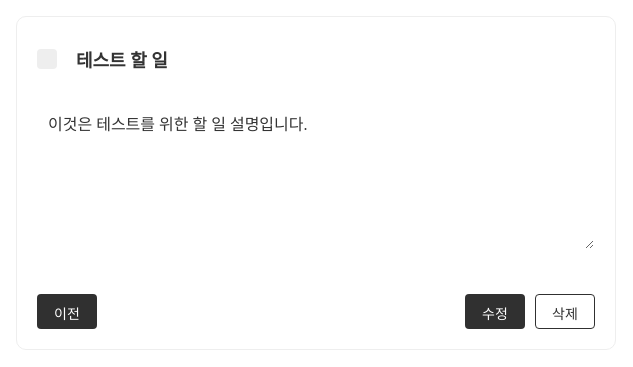
it: TodoDetail 컴포넌트 › 수정 버튼 클릭 시 편집 모드로 전환된다
Click the button "수정".
click(495, 312)  # box [465,294,525,329]
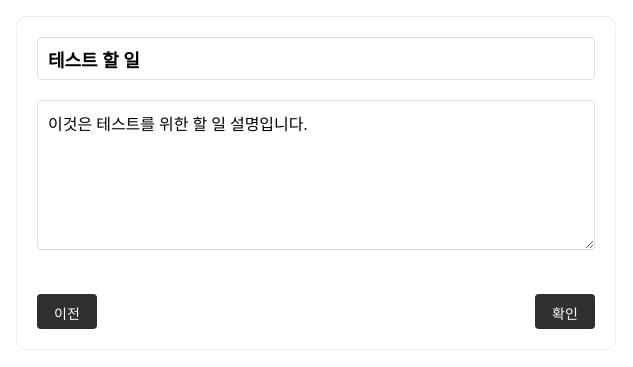
Expected: the button "확인" is shown, [535,294,595,329]
Expected: the button "수정" is gone
